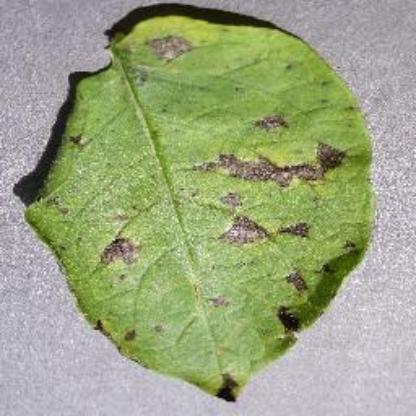Early-Blight: (23, 8, 372, 400)
